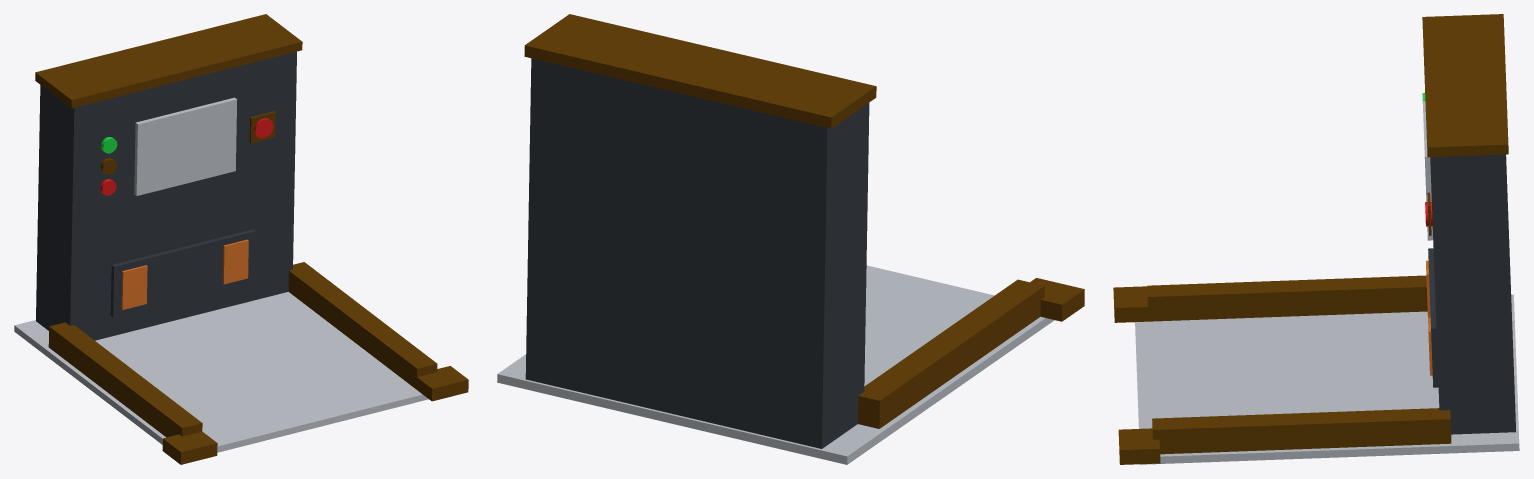
File: docking-station.obj
The picture shows the model from 3 angles, left to right: view 1: azimuth 30°, elevation 25°; view 2: azimuth 150°, elevation 25°; view 3: azimuth 270°, elevation 25°; orthographic projection. The views are drawn at different scales.
Visible parts, largest first — view 1: Docking_Station; view 2: Docking_Station; view 3: Docking_Station.
Part boxes in pixels (box(x1,y1,x2,y2)): Docking_Station: box(14, 14, 468, 464); Docking_Station: box(497, 14, 1084, 464); Docking_Station: box(1113, 14, 1519, 464).
Bounding box in the file's own units: 1.42 × 1.26 × 1.5.
